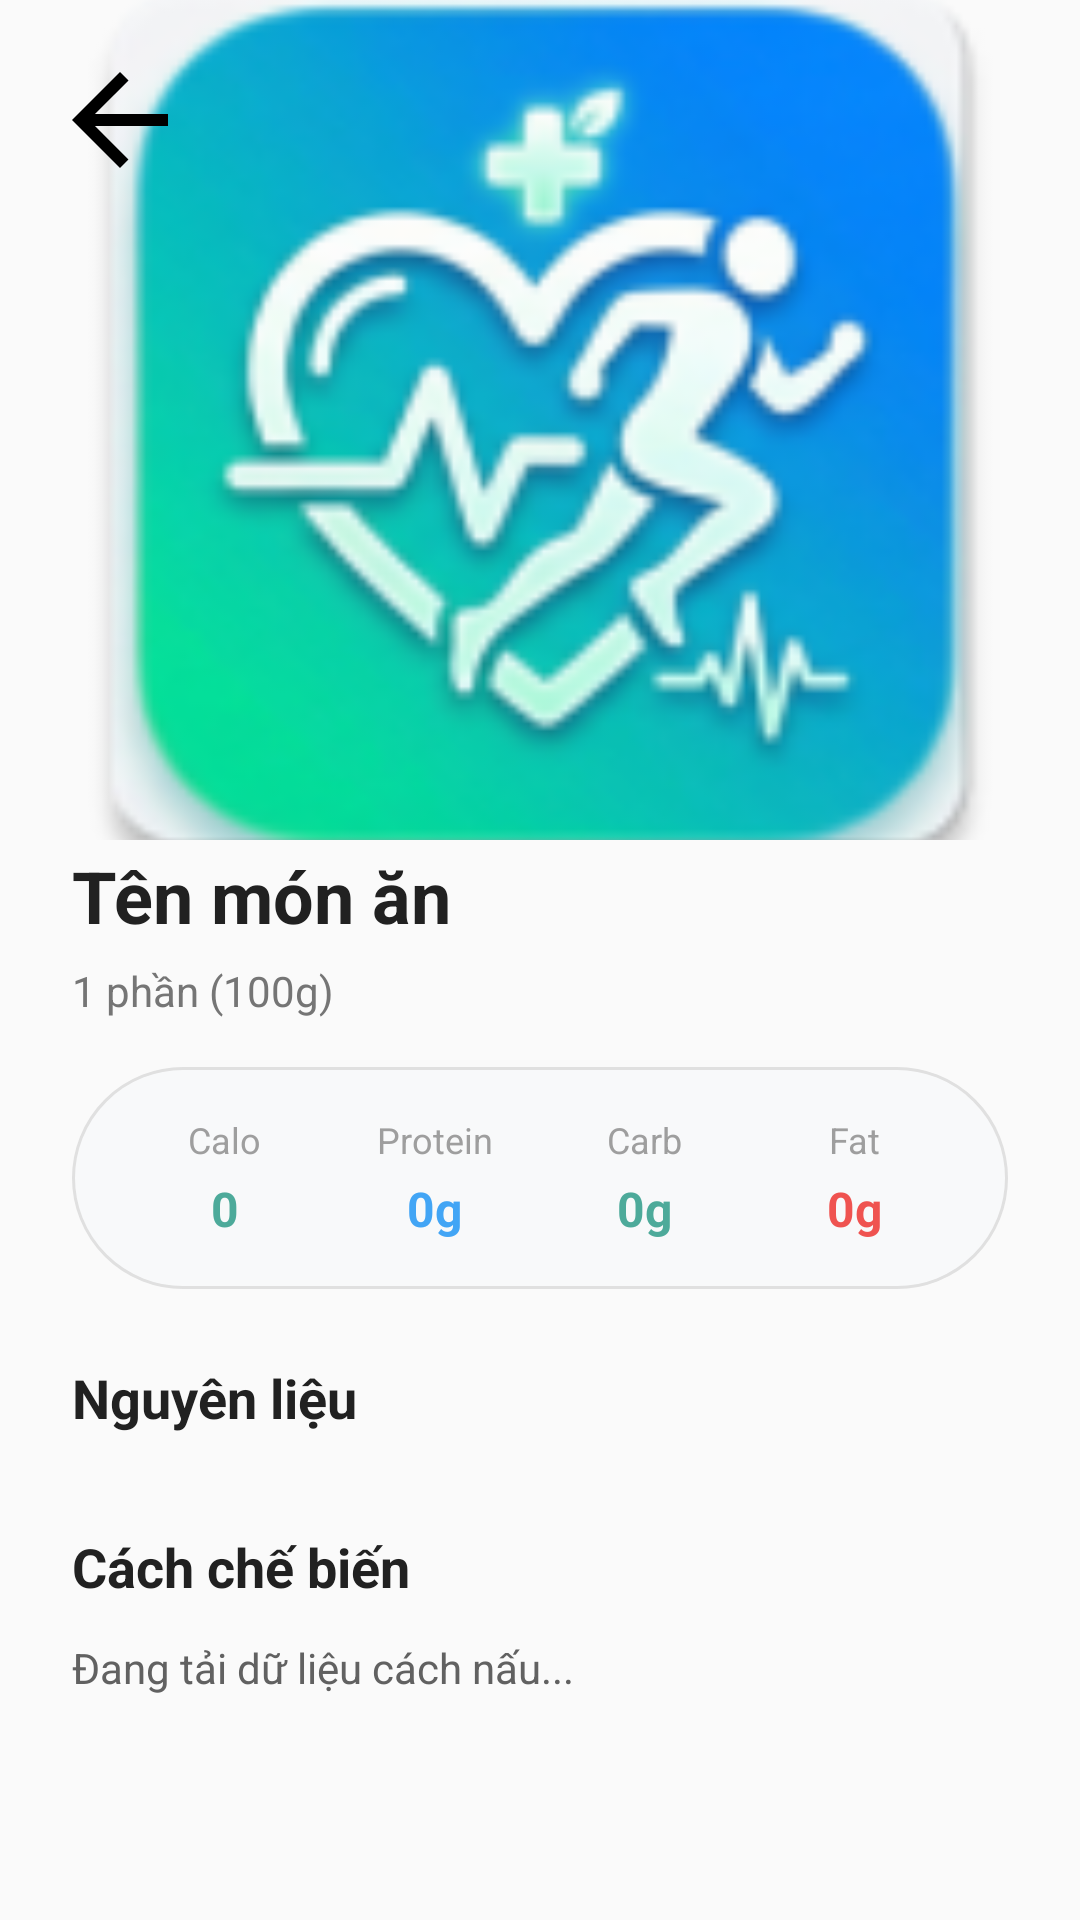

Icon bounding boxes for this 1080×1920 phone screenshot, format (x1, y1, x2, y2):
arrow back breakfast: (72, 50, 192, 192)
